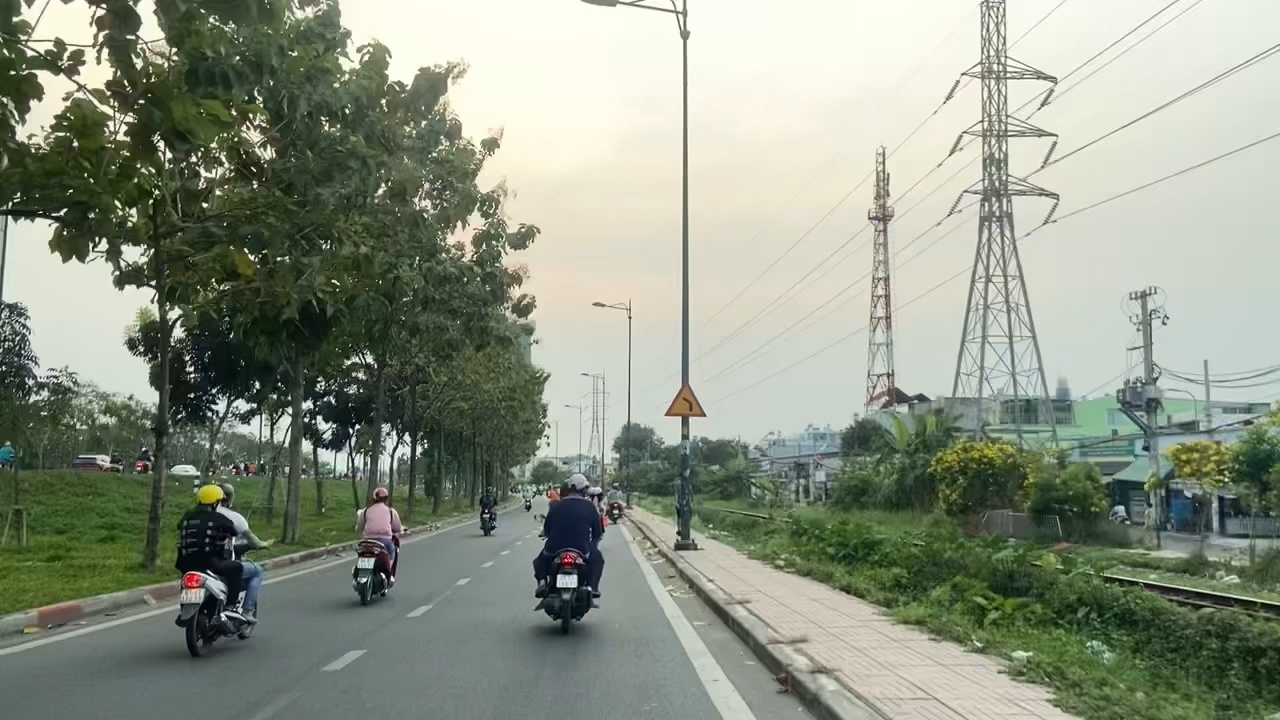duong_nghieng_trai: (661, 381, 708, 420)
